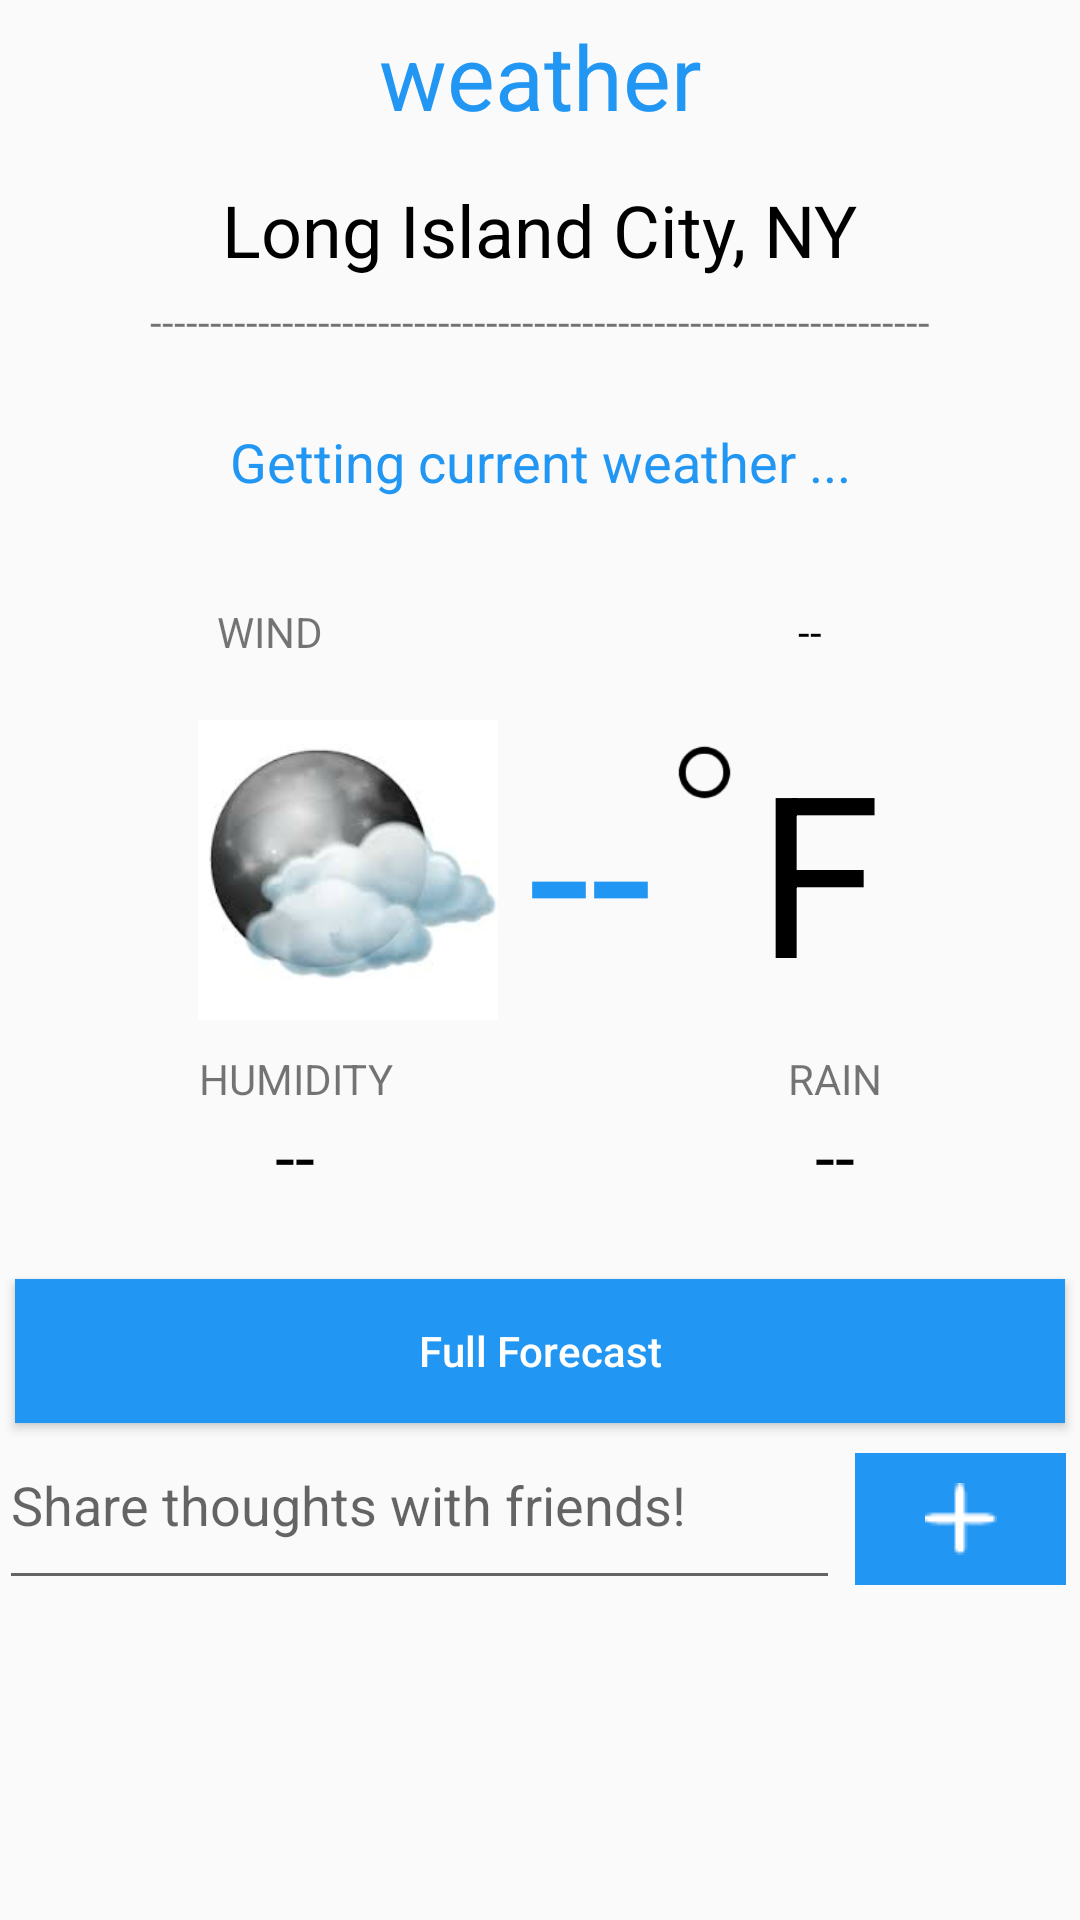

Icon bounding boxes for this 1080px x 1920px phone screenshot, format (x1, y1, x2, y2):
add: (855, 1453, 1066, 1585)
cloudy night: (210, 750, 496, 978)
degree: (678, 746, 731, 799)
